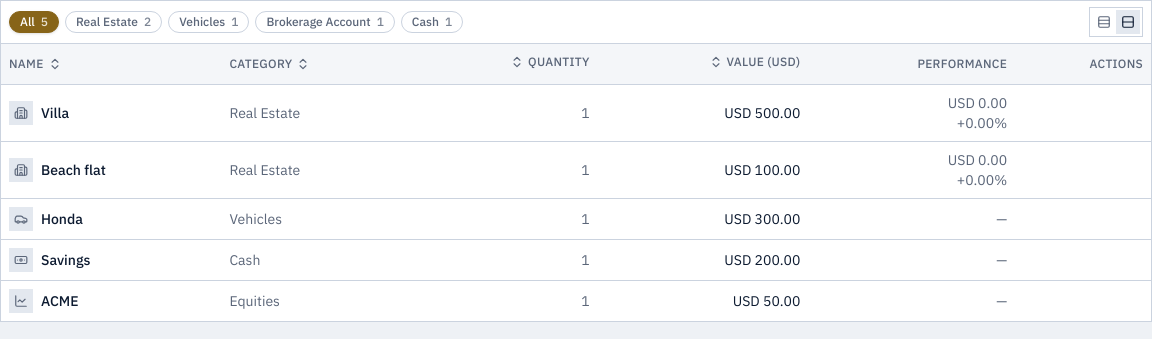
Test: PortfolioTable category pills › filters rows when a pill is clicked and All resets
Click the button "Real Estate 2".
click(114, 22)  # box [65,11,162,33]
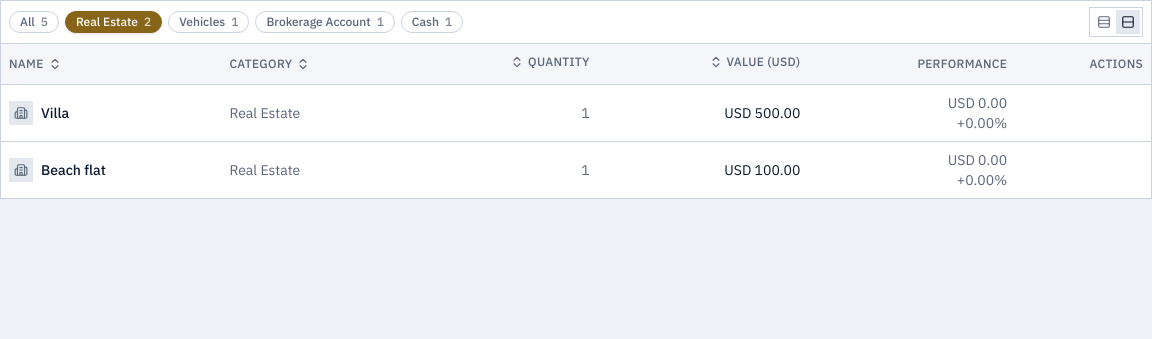
Now the button "Real Estate 2" is pressed, box [65,11,162,33]
Now the button "All 5" is not pressed
Click the button "All 5".
click(34, 22)  # box [9,11,59,33]
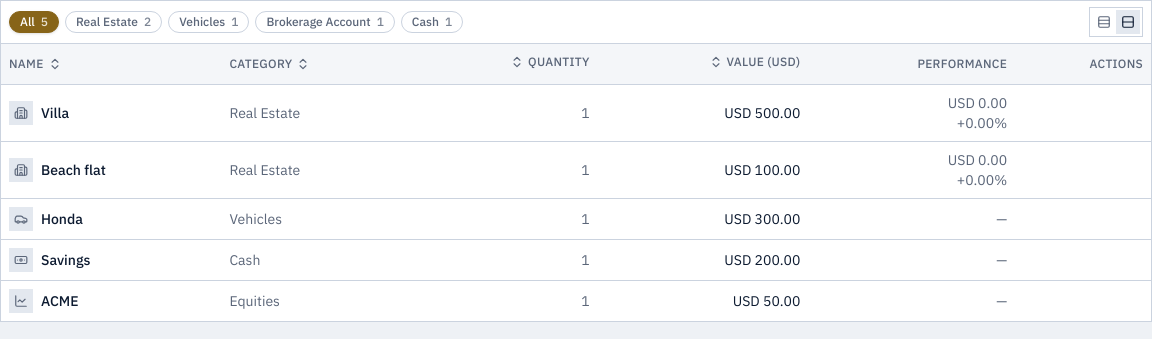
Now the number of links is 5, box [9,100,69,124]; [9,158,106,182]; [9,206,83,230]; [9,248,90,272]; [9,288,78,312]
